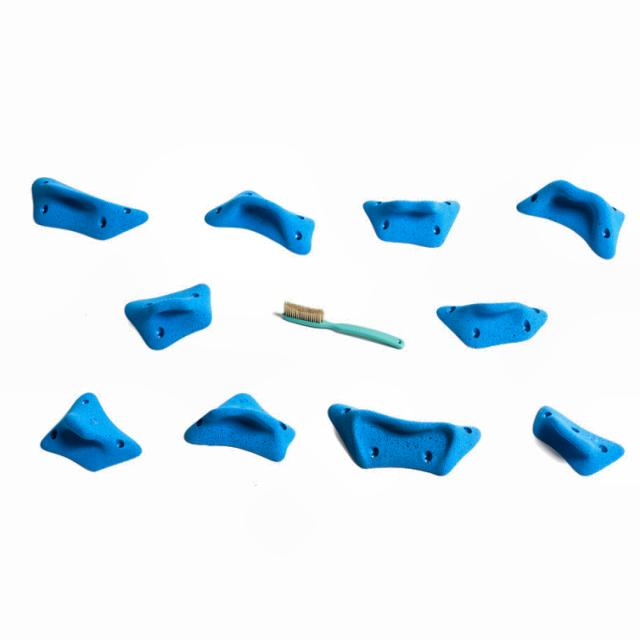Hold: (320, 401, 486, 483), (513, 176, 623, 262), (37, 390, 144, 474), (29, 175, 154, 240), (202, 190, 318, 260), (528, 406, 626, 480), (181, 398, 294, 462), (118, 284, 221, 350), (432, 299, 552, 351), (354, 194, 462, 248)
